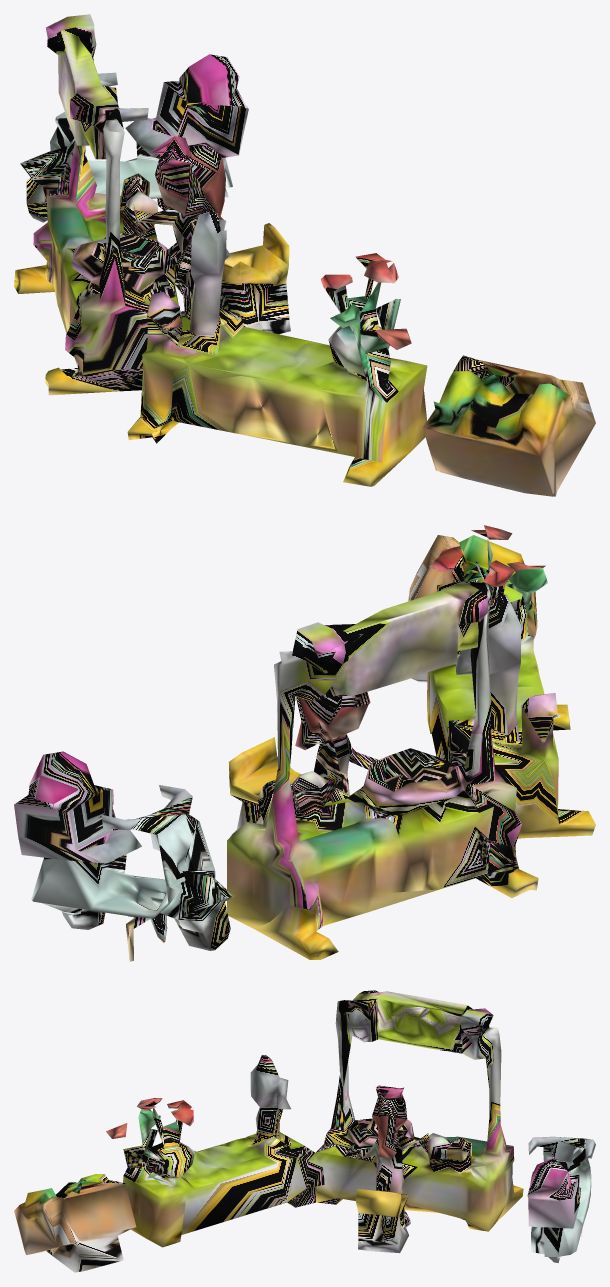
File: gso_lego_friends_mia.glb
The picture shows the model from 3 angles, top to bottom: view 1: azimuth 30°, elevation 25°; view 2: azimuth 150°, elevation 25°; view 3: azimuth 270°, elevation 25°; orthographic projection. The views are drawn at different scales.
Visible parts, largest first — view 1: z-up-to-y-up; view 2: z-up-to-y-up; view 3: z-up-to-y-up.
Part boxes in pixels (<box>): z-up-to-y-up: <box>14,14,595,496</box>; z-up-to-y-up: <box>14,525,595,961</box>; z-up-to-y-up: <box>14,990,595,1272</box>.
Size of the model in its own units: 0.0911 by 0.0735 by 0.1985.
1 material, 1 textured.
